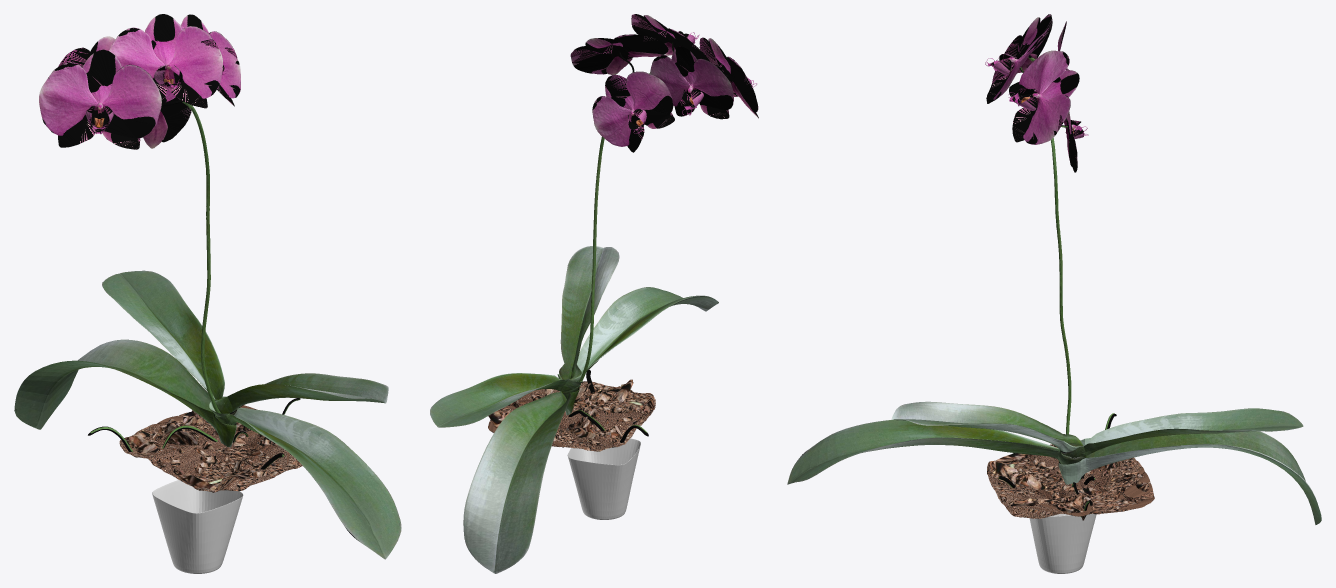
File: orchidea3.glb
The picture shows the model from 3 angles, left to right: view 1: azimuth 30°, elevation 25°; view 2: azimuth 150°, elevation 25°; view 3: azimuth 270°, elevation 25°; orthographic projection. The views are drawn at different scales.
Bounding box in the file's own units: 1.41 × 2.69 × 2.54.
Materials: 5 (4 with a texture image).
